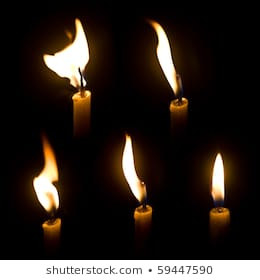Fire: (40, 14, 96, 91), (148, 16, 185, 98), (33, 135, 63, 216), (121, 132, 149, 205), (210, 148, 228, 211)
